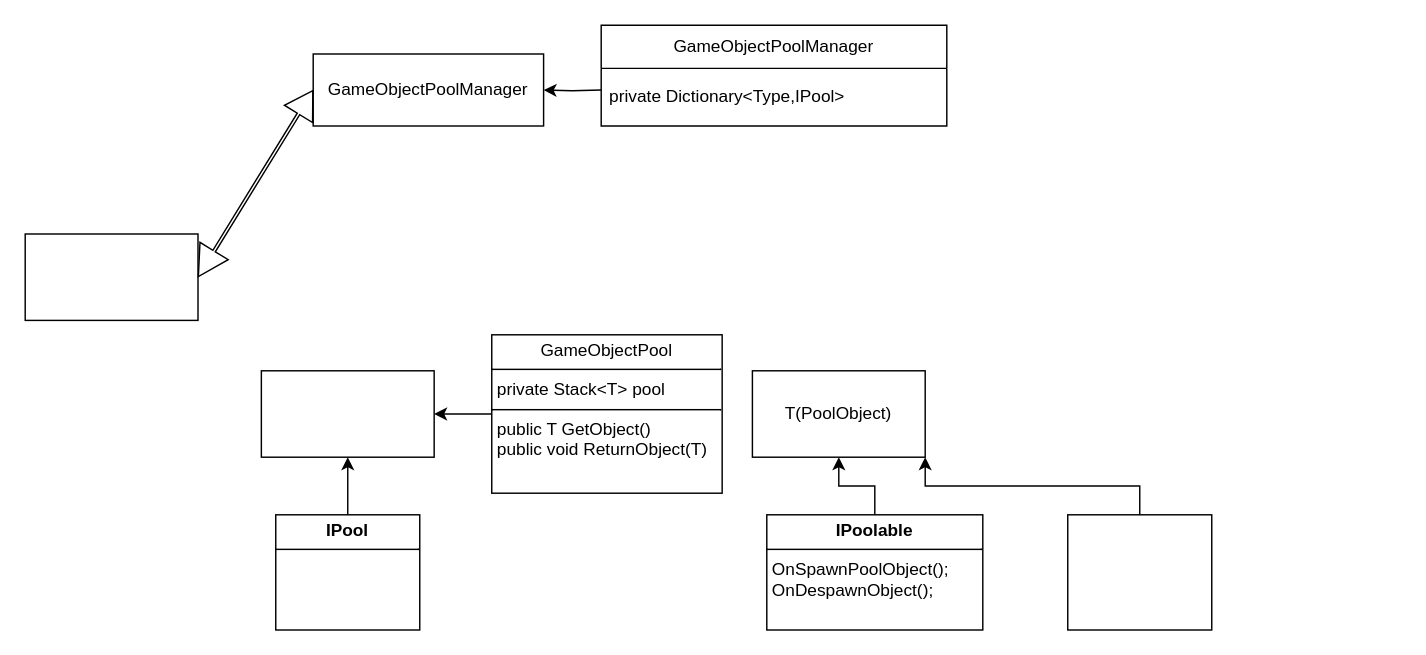
This 1426x655 diagram has some shape labels left out. The centre of each missing label's shape, as x and y in pixels:
"Component" goes at (x=1139, y=571).
"GameObjectPool" goes at (x=347, y=413).
"특정 Controller" goes at (x=111, y=276).
